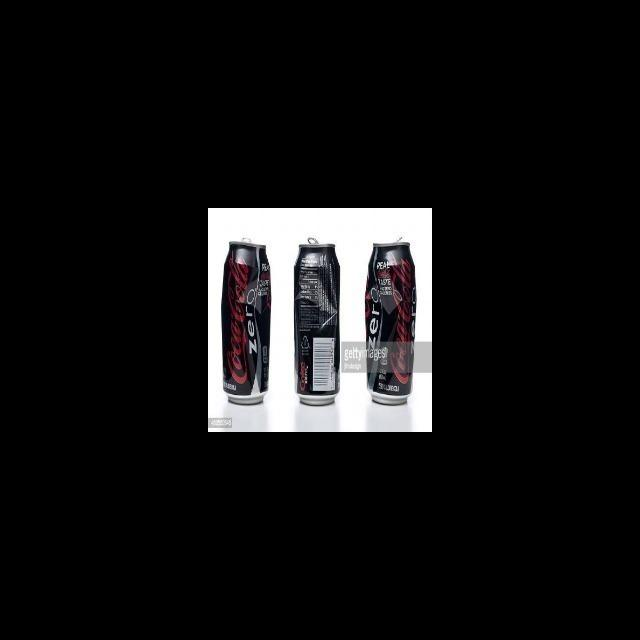metal: (217, 234, 276, 410), (292, 233, 346, 410), (366, 233, 417, 411)
